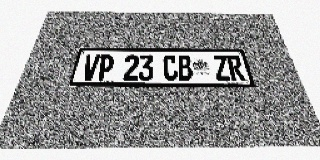2: (123, 55, 139, 81)
3: (138, 55, 153, 81)
B: (177, 55, 193, 81)
C: (163, 55, 178, 81)
P: (96, 55, 115, 80)
R: (226, 55, 246, 81)
V: (81, 54, 100, 80)
Z: (212, 55, 231, 81)
